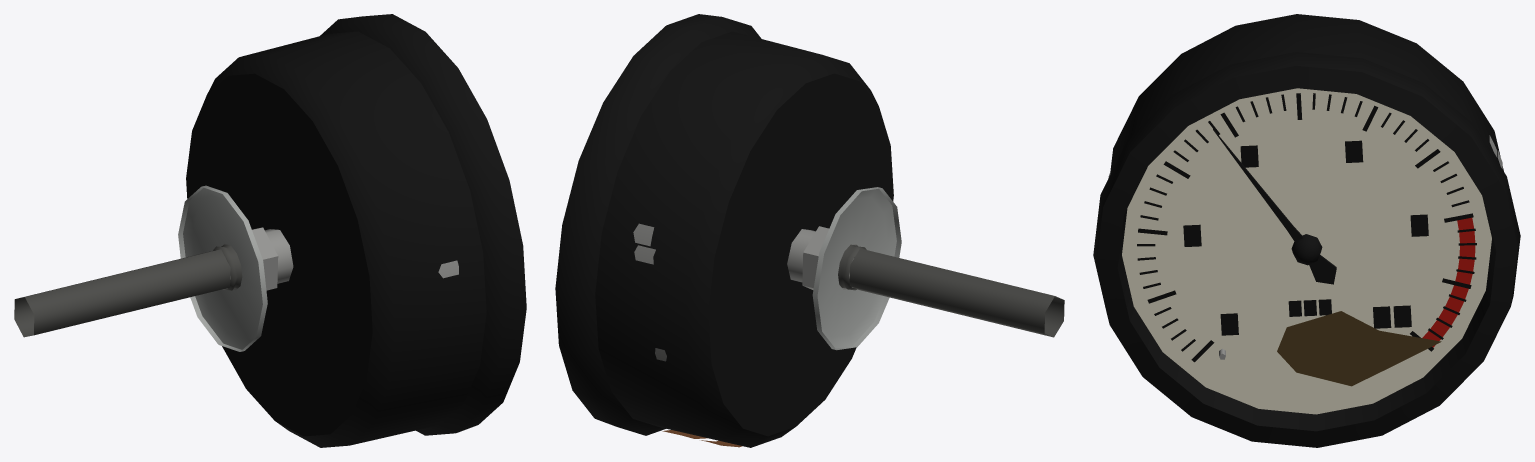
Rendered from gauge.glb.
The picture shows the model from 3 angles, left to right: view 1: azimuth 30°, elevation 25°; view 2: azimuth 150°, elevation 25°; view 3: azimuth 270°, elevation 25°; orthographic projection.
Visible parts, largest first — view 1: gauge0, gauge7, gauge8, gauge6; view 2: gauge0, gauge7, gauge8, gauge6; view 3: gauge1, gauge0, gauge10, gauge2, gauge4, gauge5, gauge3.
Boxes of the visible parts, x1=… form: gauge0: x1=186, y1=14, x2=526, y2=447; gauge7: x1=14, y1=244, x2=242, y2=337; gauge8: x1=178, y1=185, x2=267, y2=351; gauge6: x1=222, y1=227, x2=458, y2=290; gauge0: x1=555, y1=14, x2=893, y2=447; gauge7: x1=838, y1=244, x2=1064, y2=337; gauge8: x1=812, y1=187, x2=901, y2=350; gauge6: x1=633, y1=223, x2=857, y2=361; gauge1: x1=1122, y1=88, x2=1491, y2=414; gauge0: x1=1093, y1=14, x2=1520, y2=447; gauge10: x1=1277, y1=311, x2=1441, y2=386; gauge2: x1=1137, y1=93, x2=1476, y2=362; gauge4: x1=1183, y1=140, x2=1428, y2=335; gauge5: x1=1213, y1=129, x2=1336, y2=284; gauge3: x1=1422, y1=217, x2=1475, y2=347.
Bounding box in the file's own units: 0.164 × 0.1522 × 0.1522.
